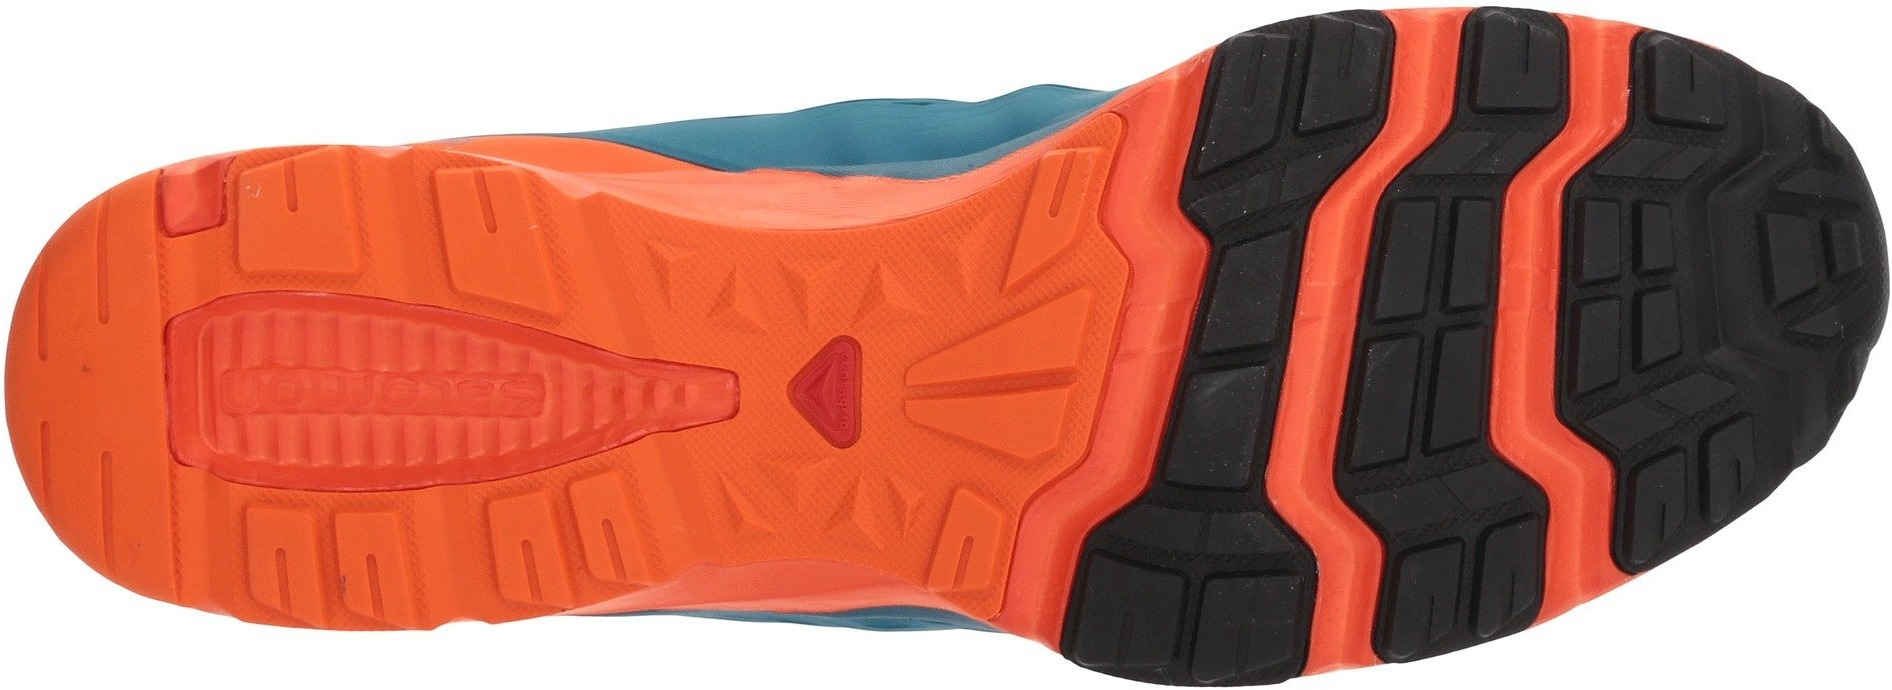circle: (215, 329, 337, 449)
line: (1256, 2, 1477, 207), (1538, 8, 1744, 197), (217, 106, 395, 296), (11, 400, 141, 607), (235, 492, 415, 635), (344, 337, 560, 444), (8, 181, 133, 363), (215, 329, 337, 449)
quad: (1256, 2, 1477, 207), (1538, 8, 1744, 197), (1557, 189, 1719, 410), (217, 106, 395, 296), (1569, 185, 1688, 402), (235, 492, 415, 635), (344, 337, 560, 444), (215, 329, 337, 449), (1380, 326, 1490, 444)
text: (344, 337, 560, 444), (779, 332, 898, 458), (215, 329, 337, 449), (224, 381, 535, 419)
triangle: (843, 199, 1008, 339), (627, 227, 773, 364), (779, 332, 898, 458), (818, 461, 938, 560), (716, 446, 833, 544)
